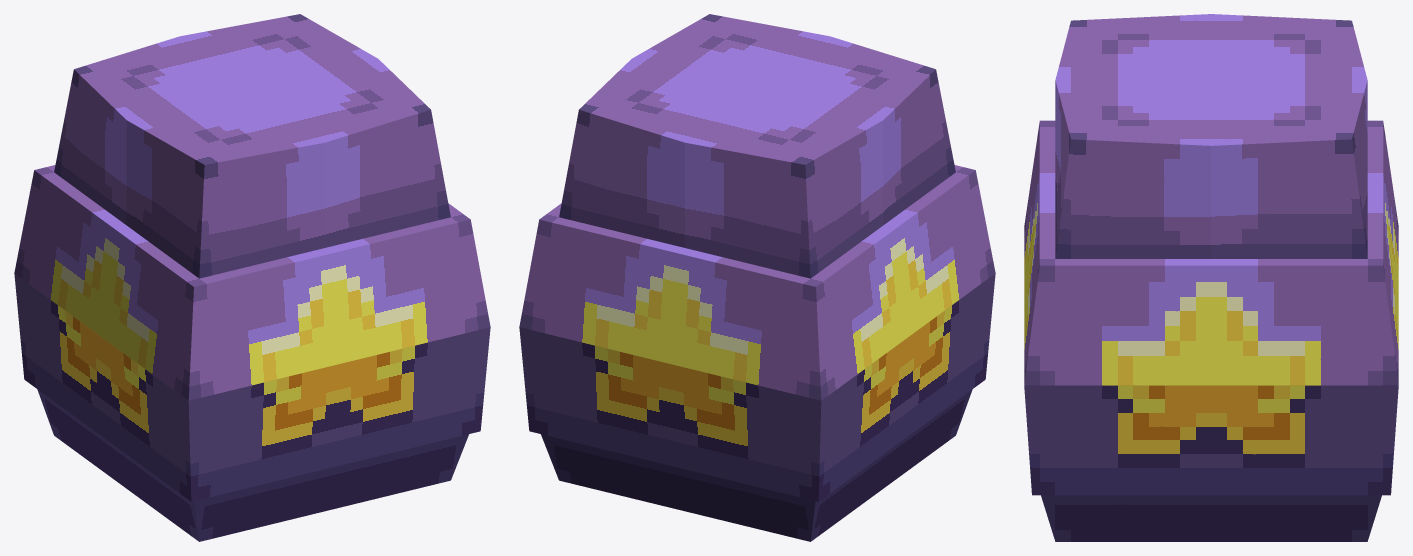
The model's file is star-egg-2.gltf.
3 renders of one model, left to right at view 1: azimuth 30°, elevation 25°; view 2: azimuth 150°, elevation 25°; view 3: azimuth 270°, elevation 25°, orthographic. The views are drawn at different scales.
Parts seen in each view (by area): view 1: cube (×3); view 2: cube (×3); view 3: cube (×3).
Part boxes in pixels (x1=…): cube (×3): x1=14, y1=14, x2=490, y2=541; cube (×3): x1=519, y1=14, x2=995, y2=541; cube (×3): x1=1024, y1=14, x2=1398, y2=541.
Size of the model in its own units: 0.75 by 0.875 by 0.75.
1 material, 1 textured.
